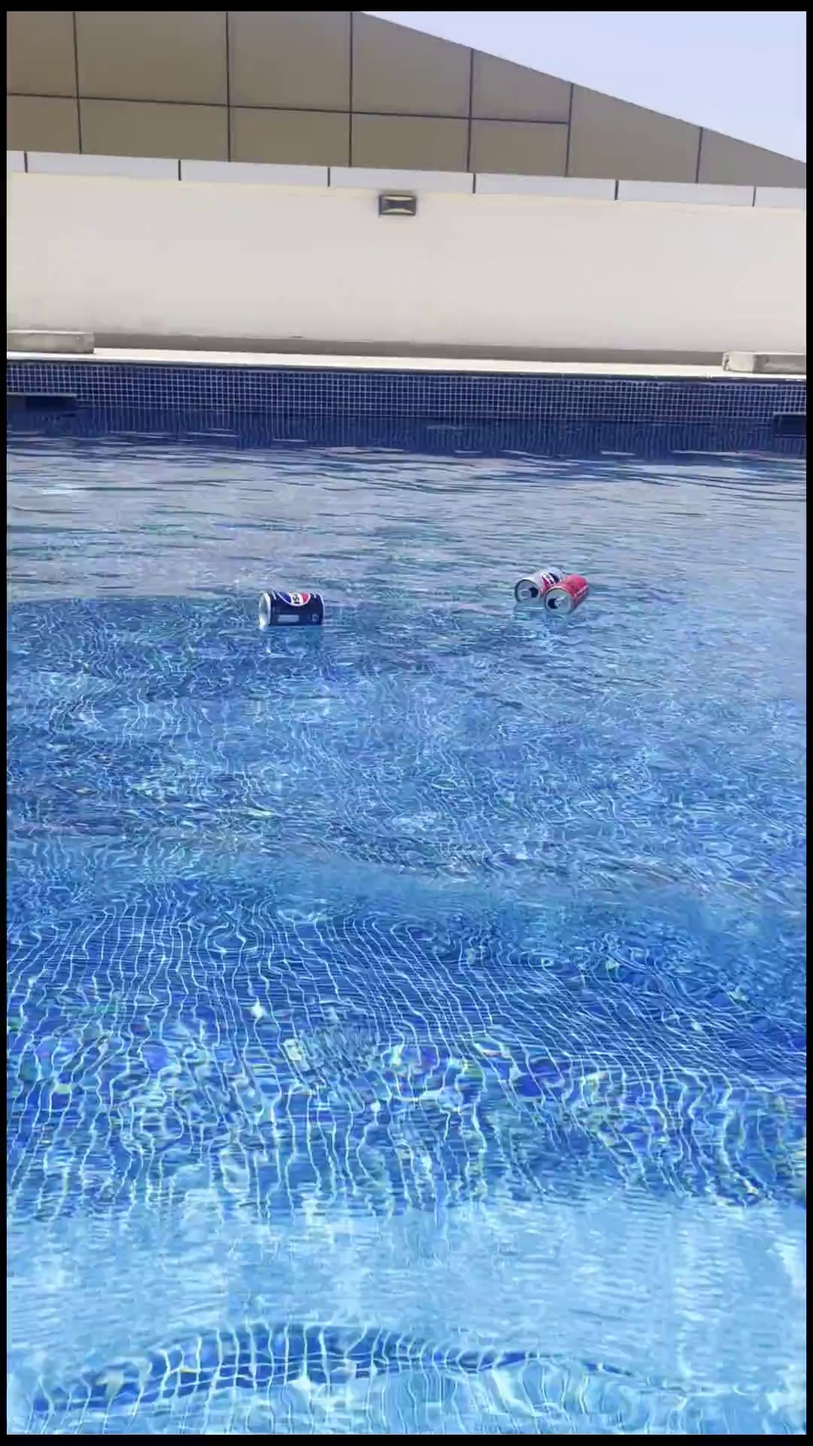debris: (253, 574, 325, 645), (508, 543, 560, 615), (542, 554, 587, 632)
